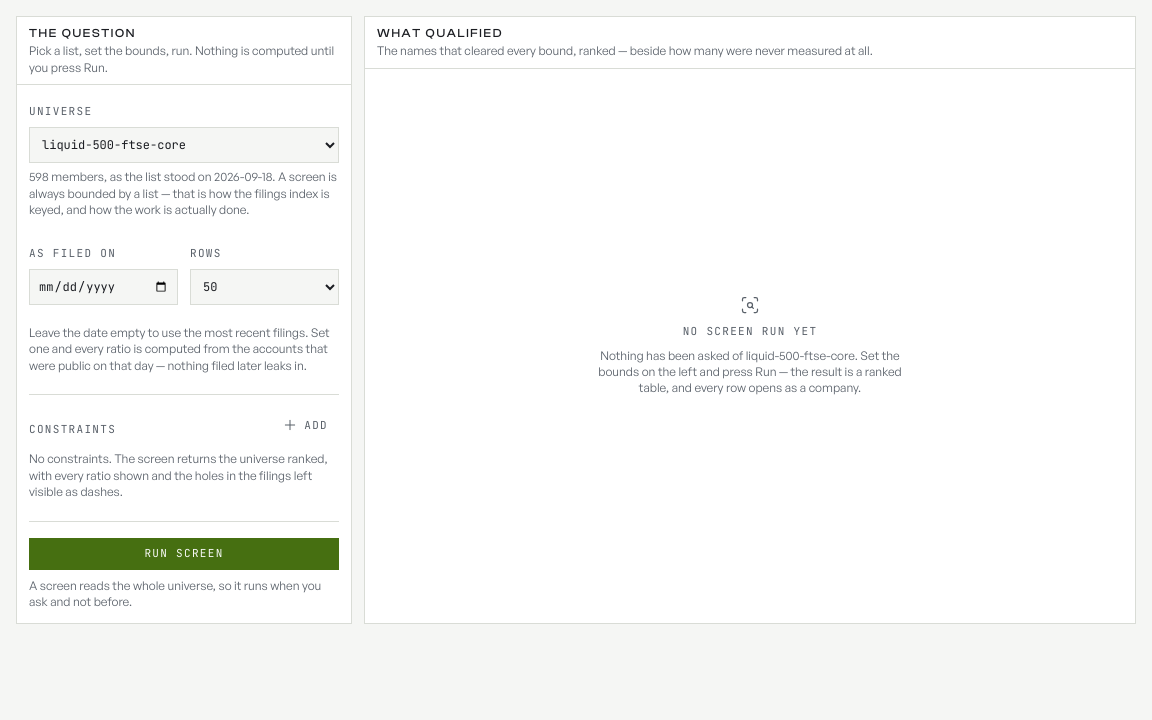
Test: Screen — the four states of a read › shows no table at all when the screen fails, rather than an empty one
Check: the dropdown labelled "Universe" is shown, box [29,127,339,163]
Click the button with test id "run-screen" at [184, 554], box [29,538,339,570]
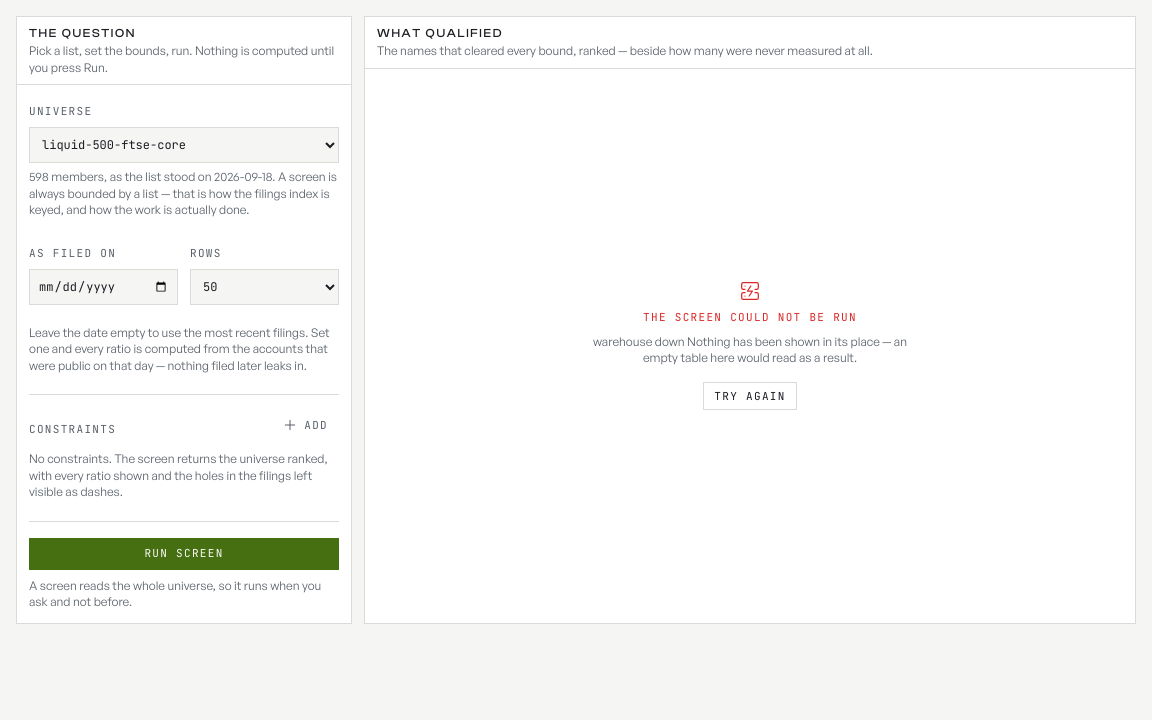
Check: the message with test id "screen-error" shows "warehouse down", box [593,334,907,365]
Check: the message with test id "screen-error" shows "an empty table here would read as a result", box [593,334,907,365]
